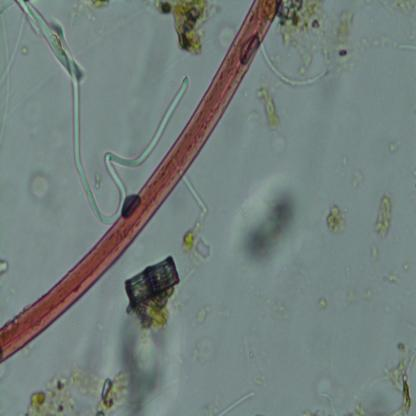Background material: (114, 304, 189, 416), (234, 169, 313, 275), (279, 0, 360, 79), (67, 352, 128, 416), (0, 0, 38, 87), (373, 335, 413, 416), (160, 0, 217, 56), (16, 369, 82, 416), (246, 83, 282, 137), (238, 327, 267, 393), (184, 220, 222, 261), (309, 373, 343, 416), (136, 291, 175, 325), (82, 323, 108, 373), (373, 188, 393, 235), (39, 168, 62, 208), (324, 198, 347, 236), (260, 294, 292, 319), (216, 20, 238, 54), (200, 335, 218, 364), (382, 266, 404, 289), (199, 302, 215, 328), (396, 0, 416, 20), (350, 166, 366, 190), (355, 395, 367, 416), (369, 243, 381, 264), (0, 256, 13, 275), (390, 136, 402, 154), (316, 296, 329, 310), (361, 285, 373, 300), (350, 290, 356, 302), (10, 285, 16, 296)
Diatom: (118, 250, 181, 307)
Glass filter fibre: (14, 0, 188, 234), (257, 40, 323, 88), (181, 174, 210, 215), (220, 390, 257, 416)
Microfibre: (0, 0, 277, 362)
